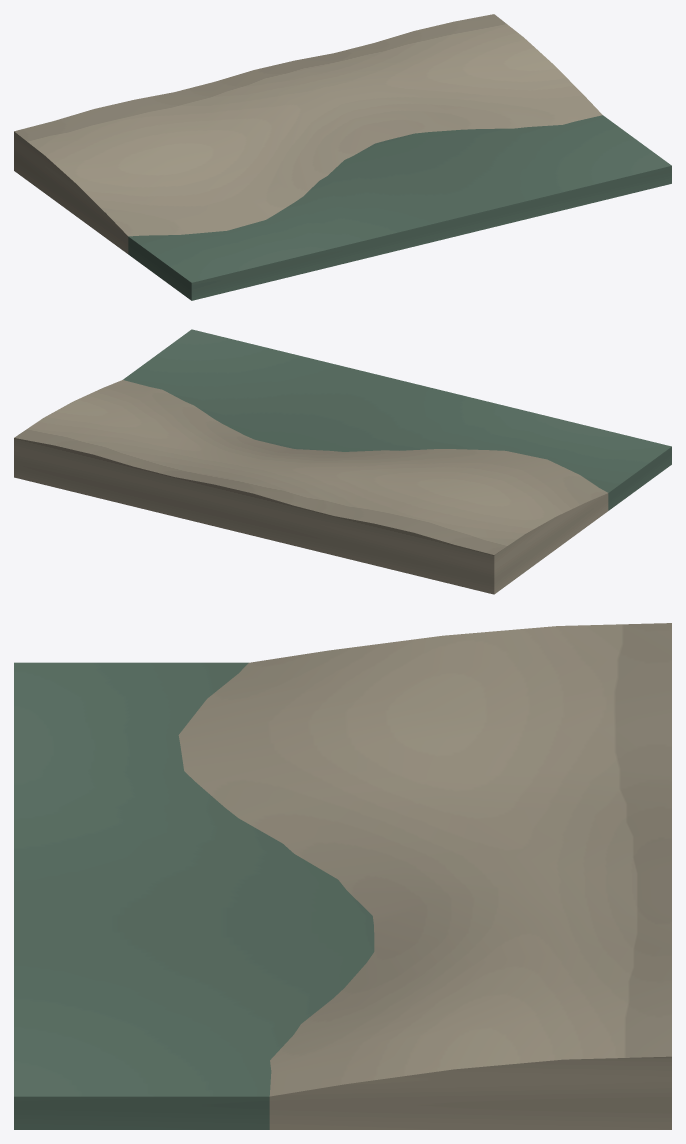
The picture shows the model from 3 angles, top to bottom: view 1: azimuth 30°, elevation 25°; view 2: azimuth 150°, elevation 25°; view 3: azimuth 270°, elevation 25°; orthographic projection. The views are drawn at different scales.
Parts seen in each view (by area): view 1: port-aux-francais; view 2: port-aux-francais; view 3: port-aux-francais.
Boxes of the visible parts, bbox=[...] form: port-aux-francais: bbox=[14, 14, 671, 300]; port-aux-francais: bbox=[14, 329, 671, 594]; port-aux-francais: bbox=[14, 623, 671, 1129].
Size of the model in its own units: 6.53 by 0.55 by 4.19.
Materials: 1 (1 with a texture image).
